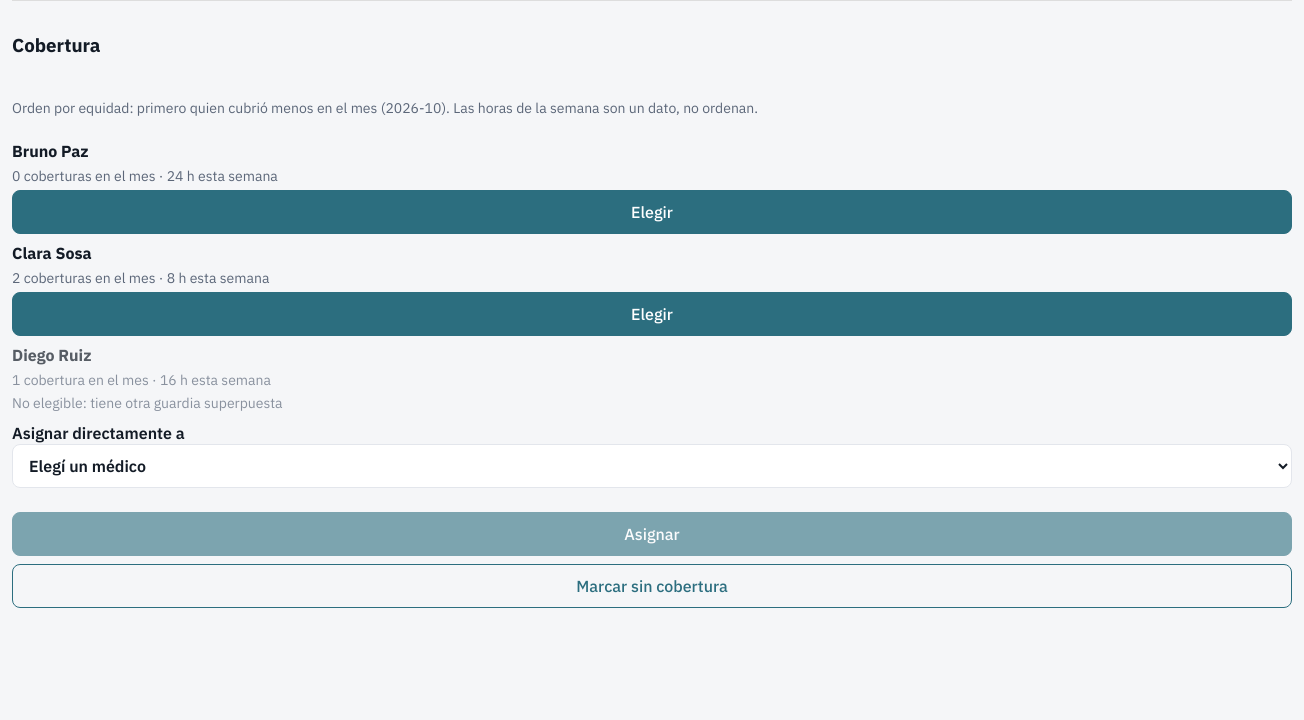
Test: PanelCobertura › elegir un candidato lo asigna
The image size is (1304, 720).
What coordinates should you click on to do the following:
click the button "Elegir" below "Clara Sosa"
I would click on:
 (652, 314)
Its box is [12,292,1292,336].
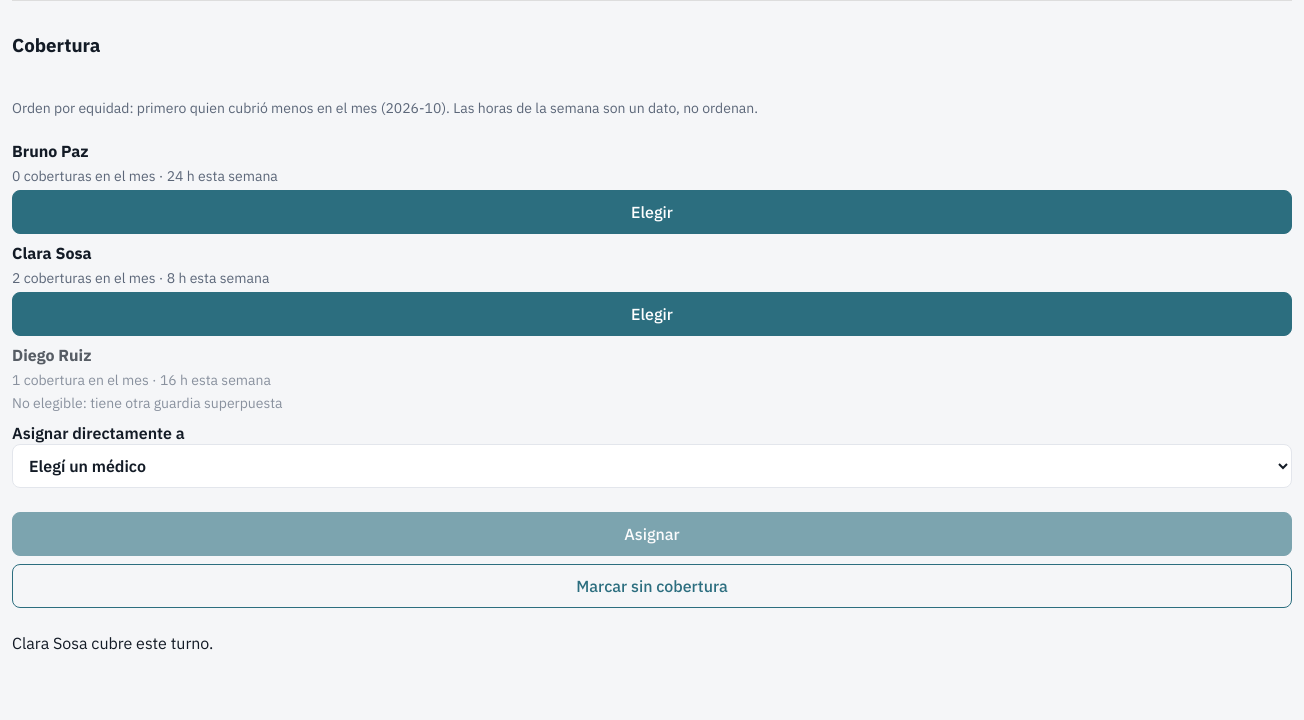
Check: the message shows "Clara Sosa", box [12,633,213,653]
